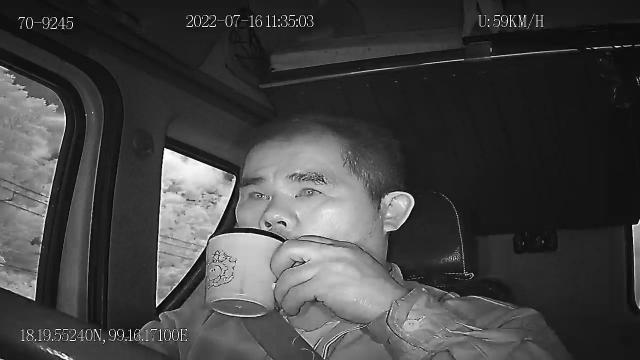SafeDriving: (287, 174, 331, 202), (239, 180, 274, 204)
Seatbelt: (224, 308, 336, 360)
